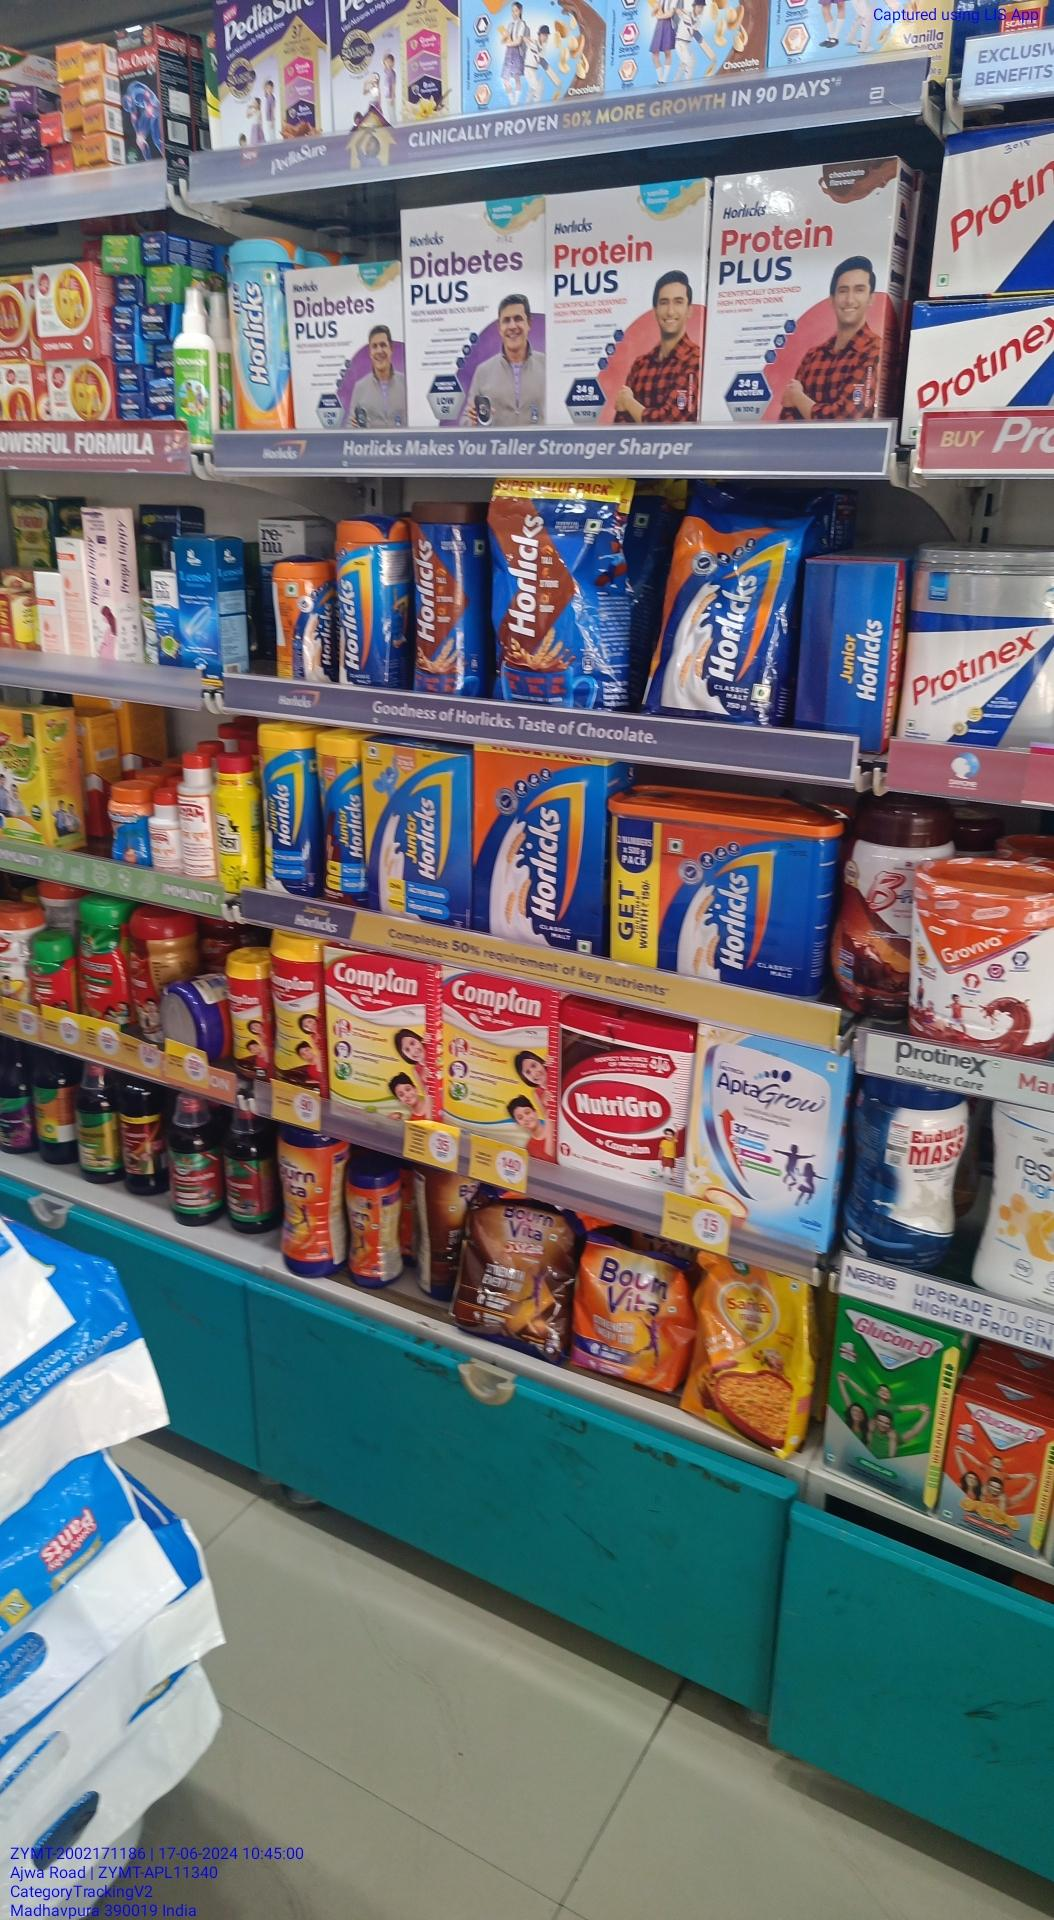BOURN_VITA_200_G_JAR: (345, 1168, 384, 1287)
BOURN_VITA_FIVE_STAR_MAGIC_500_G_POUCH: (461, 1200, 572, 1361)
COMPLAN_CHOCOLATE_200_GMS_JAR: (227, 952, 269, 1075)
COMPLAN_CHOCOLATE_500_GMS_JAR: (269, 933, 322, 1094)
COMPLAN_CREAMY_CLASSIC_500_G_PACK: (441, 966, 550, 1157)
COMPLAN_PISTA_BADAM_500_GMS_PACK: (323, 946, 439, 1131)
HORLICKS_JUNIOR_VANILLA_500_GM_JAR: (366, 745, 467, 924), (260, 721, 314, 895)
HORLICKS_LITE_REGULAR_MALT_500_GM_JAR: (225, 236, 286, 432)
HORLICK_CHOCOLATE_500_G_PACK: (410, 494, 482, 694)
HORLICK_CHOCOLATE_750_G_POUCH: (492, 476, 606, 714)
HORLICK_CLASSIC_MALT_200_G_JAR: (273, 553, 332, 680)
HORLICK_CLASSIC_MALT_500_G_PACK: (335, 519, 392, 686)
HORLICK_CLASSIC_MALT_750_G_POUCH: (659, 494, 776, 726)
HORLICK_MALT_1_KG_CONTAINER: (607, 798, 829, 989)
PEDIASURE_7_PLUS_CHOCOLATE_400_G_PACK: (217, 0, 327, 148)
